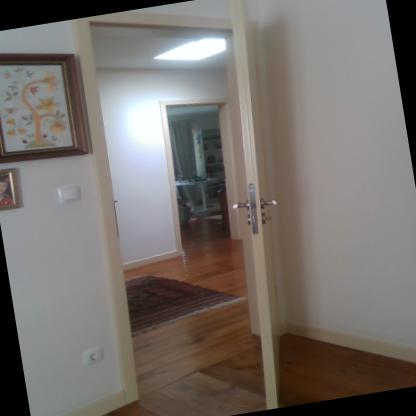open: (60, 0, 351, 409)
